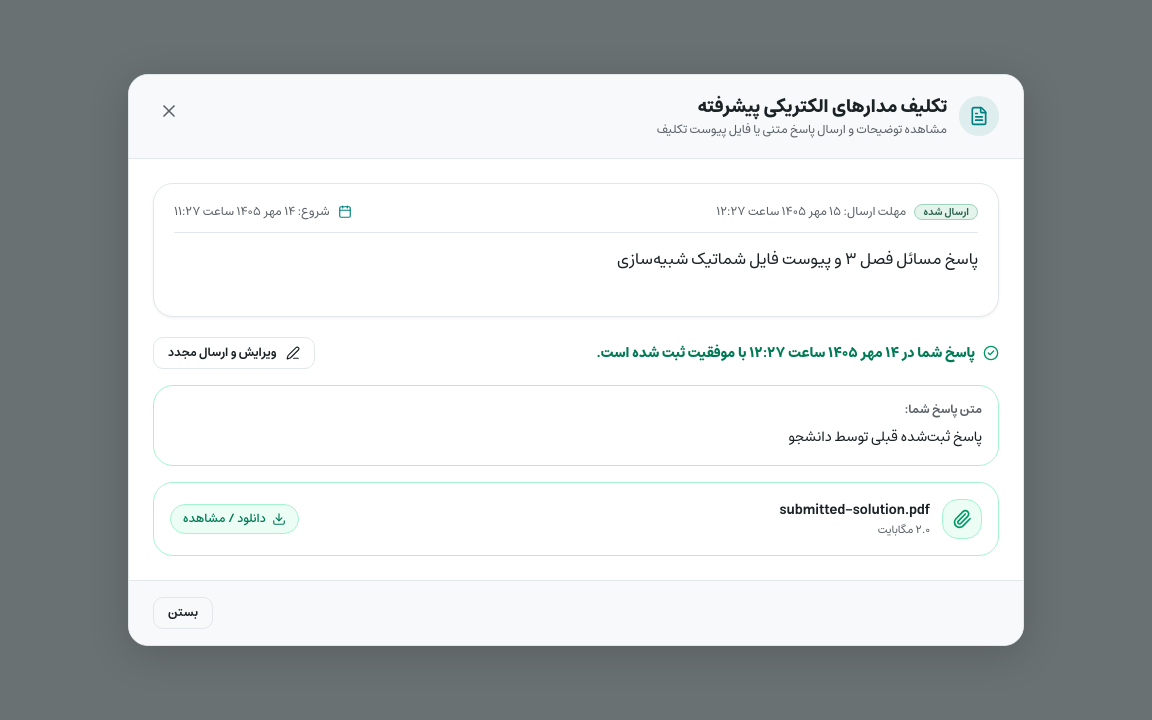
StudentAssignmentSubmissionModal — Enhanced UI/UX & Attachments › loads existing submission with text and attachment in view mode, and opens edit mode
The image size is (1152, 720).
Expected: the text "پاسخ ثبت‌شده قبلی توسط دانشجو" is shown, [788, 425, 982, 449]
Expected: the text "submitted-solution.pdf" is shown, [780, 500, 930, 520]
Note: Click edit
Click the button "ویرایش و ارسال مجدد" at coordinates (234, 353), box [153, 337, 315, 369]
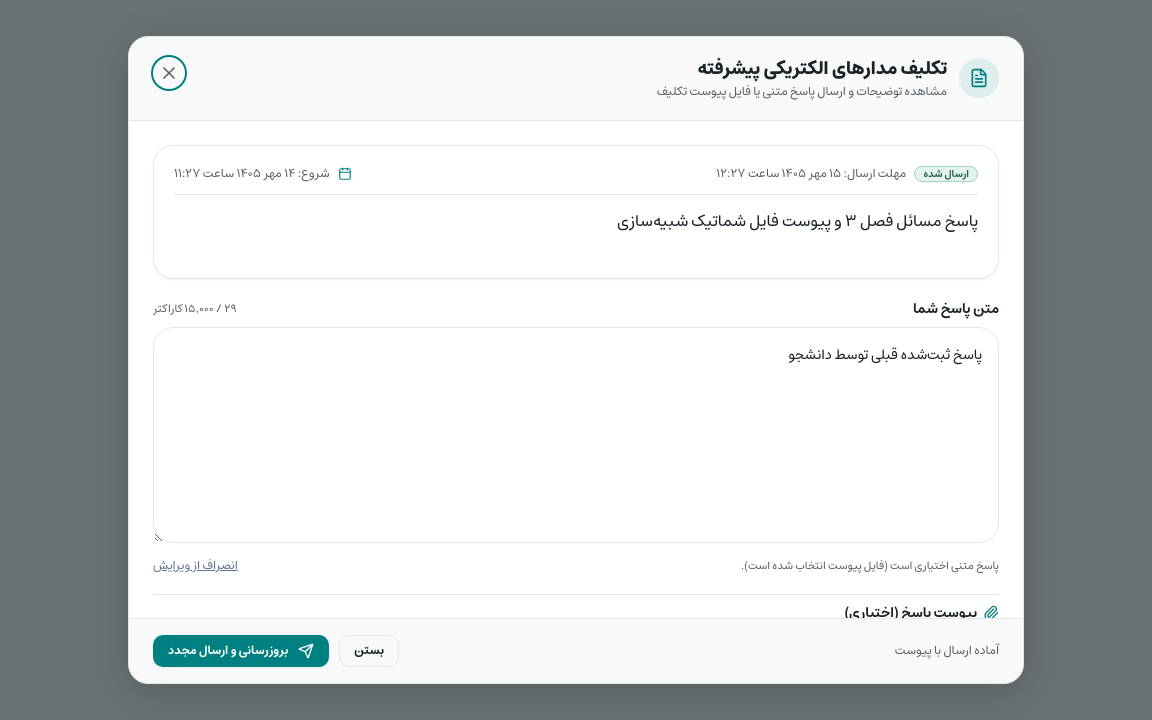
Result: the text box showing "پاسخ ثبت‌شده قبلی توسط دانشجو" is shown at [153, 327, 999, 543]
Result: the button "بروزرسانی و ارسال مجدد" is shown at [153, 635, 329, 667]
